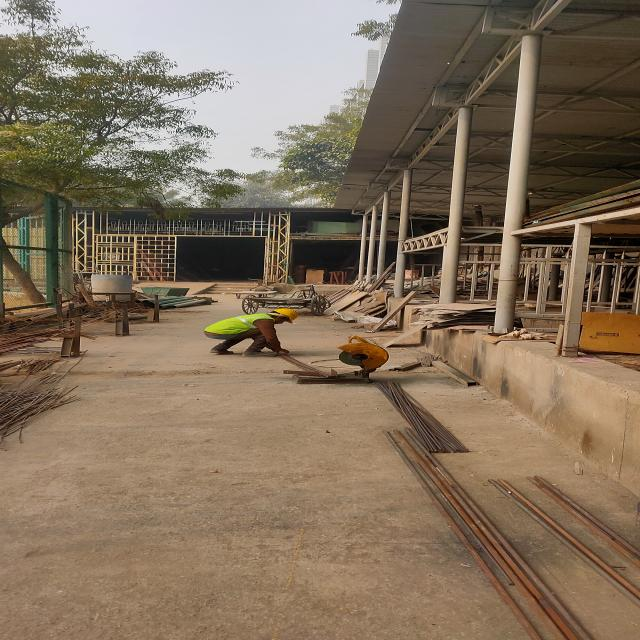safe: (202, 307, 302, 358)
